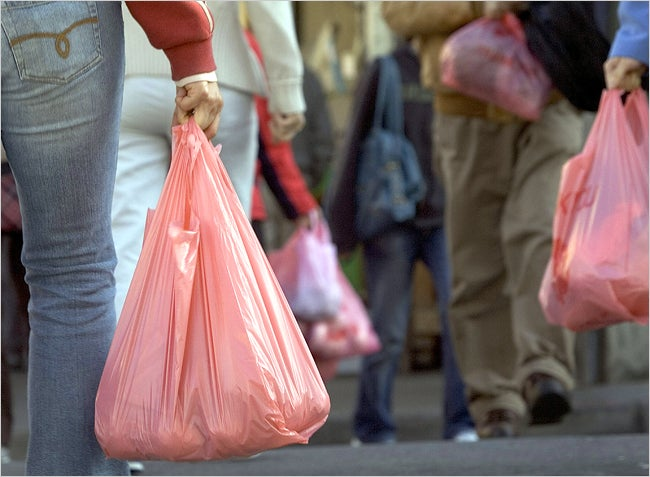PlasticBag: (92, 120, 330, 465)
